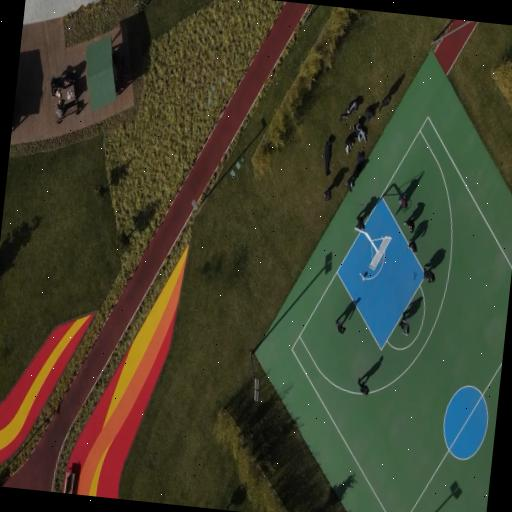person: (341, 99, 358, 121), (324, 135, 333, 174), (354, 121, 367, 141), (346, 173, 357, 191), (358, 377, 369, 394), (345, 133, 354, 153), (380, 94, 391, 110), (424, 266, 435, 282), (401, 313, 409, 334), (347, 99, 358, 113), (335, 319, 346, 333), (56, 100, 65, 117), (358, 124, 367, 141), (356, 150, 365, 166), (365, 106, 375, 120), (405, 217, 414, 232), (408, 239, 417, 253), (399, 194, 408, 208), (324, 186, 332, 201), (357, 215, 365, 230)
